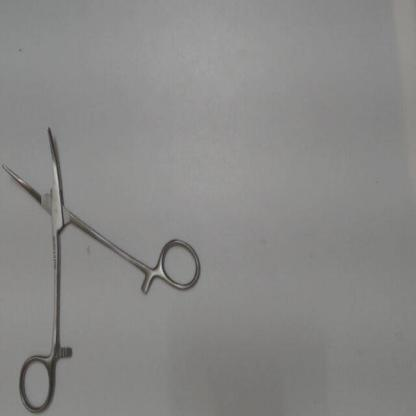Crile Artery Forceps: (0, 115, 205, 414)
